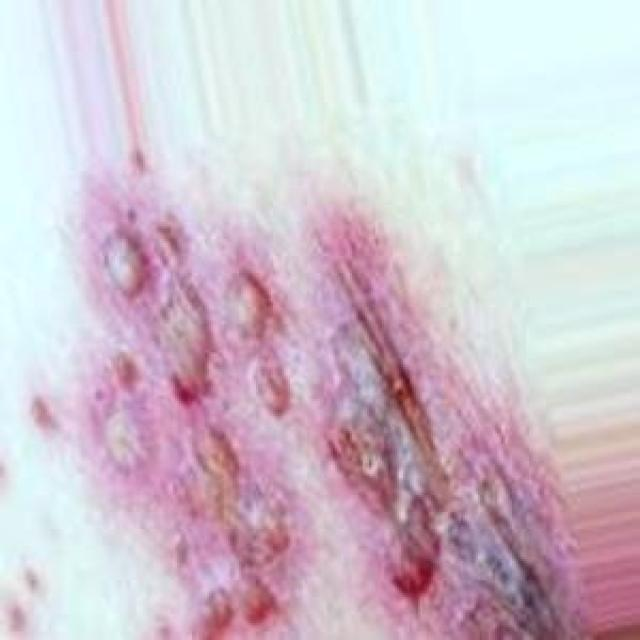Shingles: (79, 191, 547, 640)
